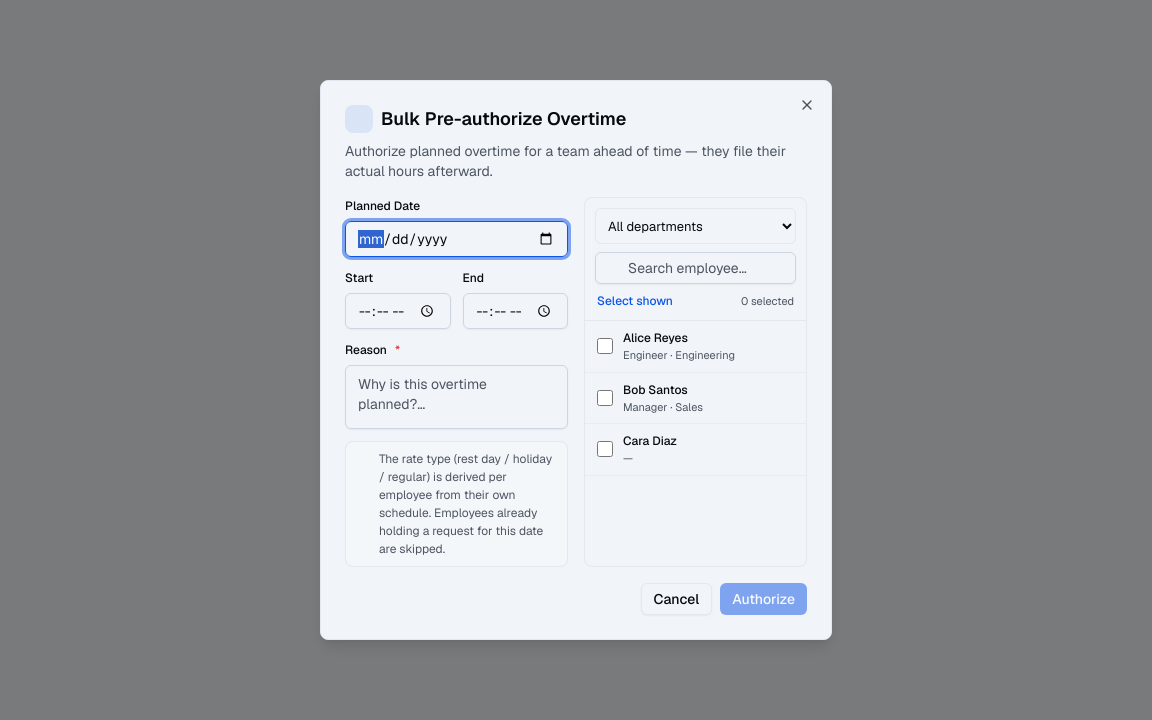
Scenario: OvertimeBulkAuthorizeDialog — filtering + selection › picking a department auto-checks its members and narrows the list
The width and height of the screenshot is (1152, 720).
Step 1. Select "Engineering" in the dropdown → (696,226), box x1=595 y1=208 x2=796 y2=244
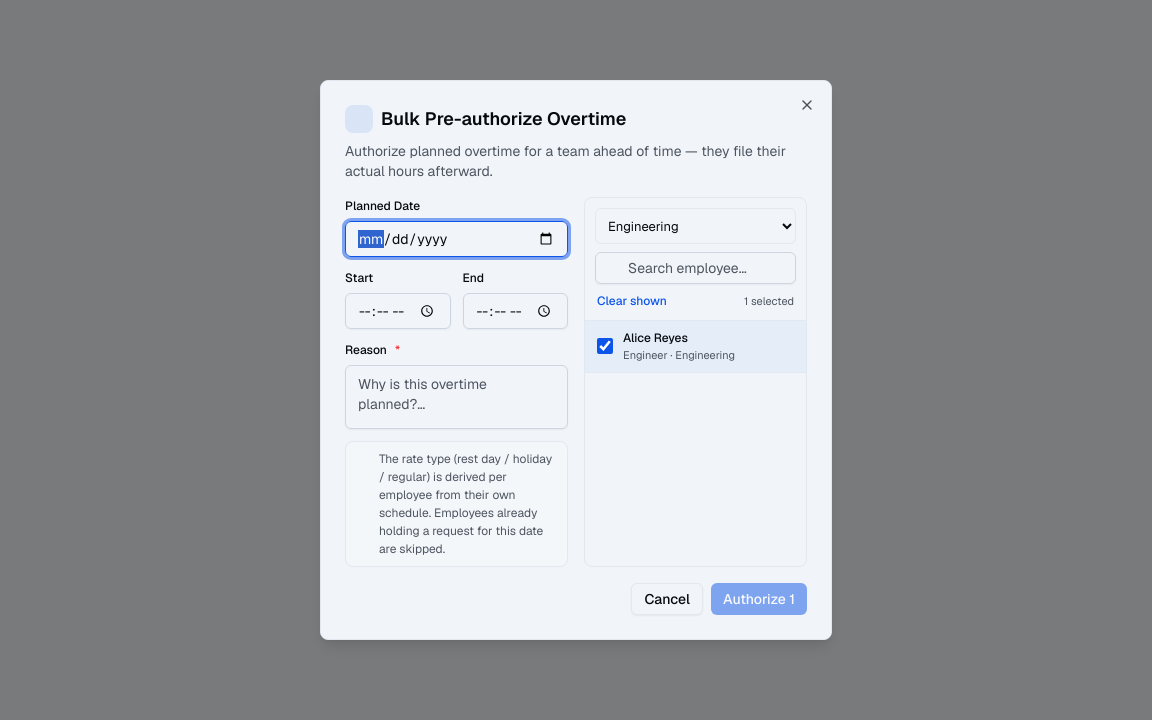
Expected: the text "Alice Reyes" is shown, x1=623 y1=330 x2=688 y2=346
Result: the text "1 selected" is shown at x1=744 y1=293 x2=794 y2=309
Result: the text "Bob Santos" is gone
